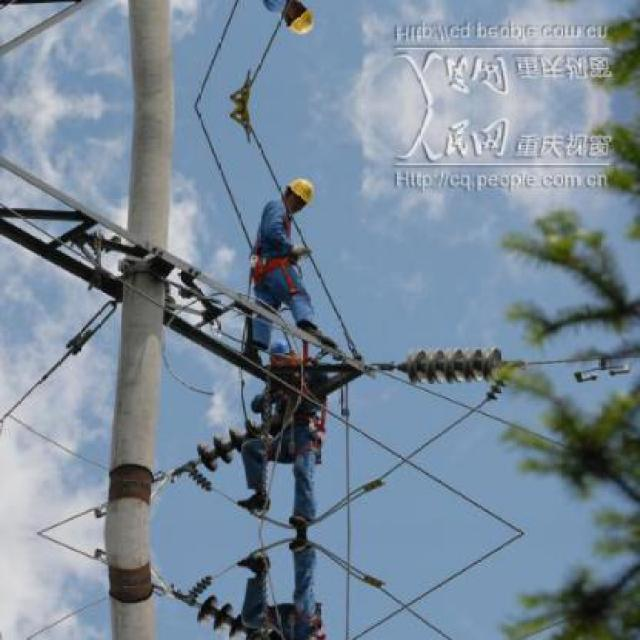helmet: (264, 336, 302, 372), (281, 175, 316, 212), (281, 0, 316, 37)
